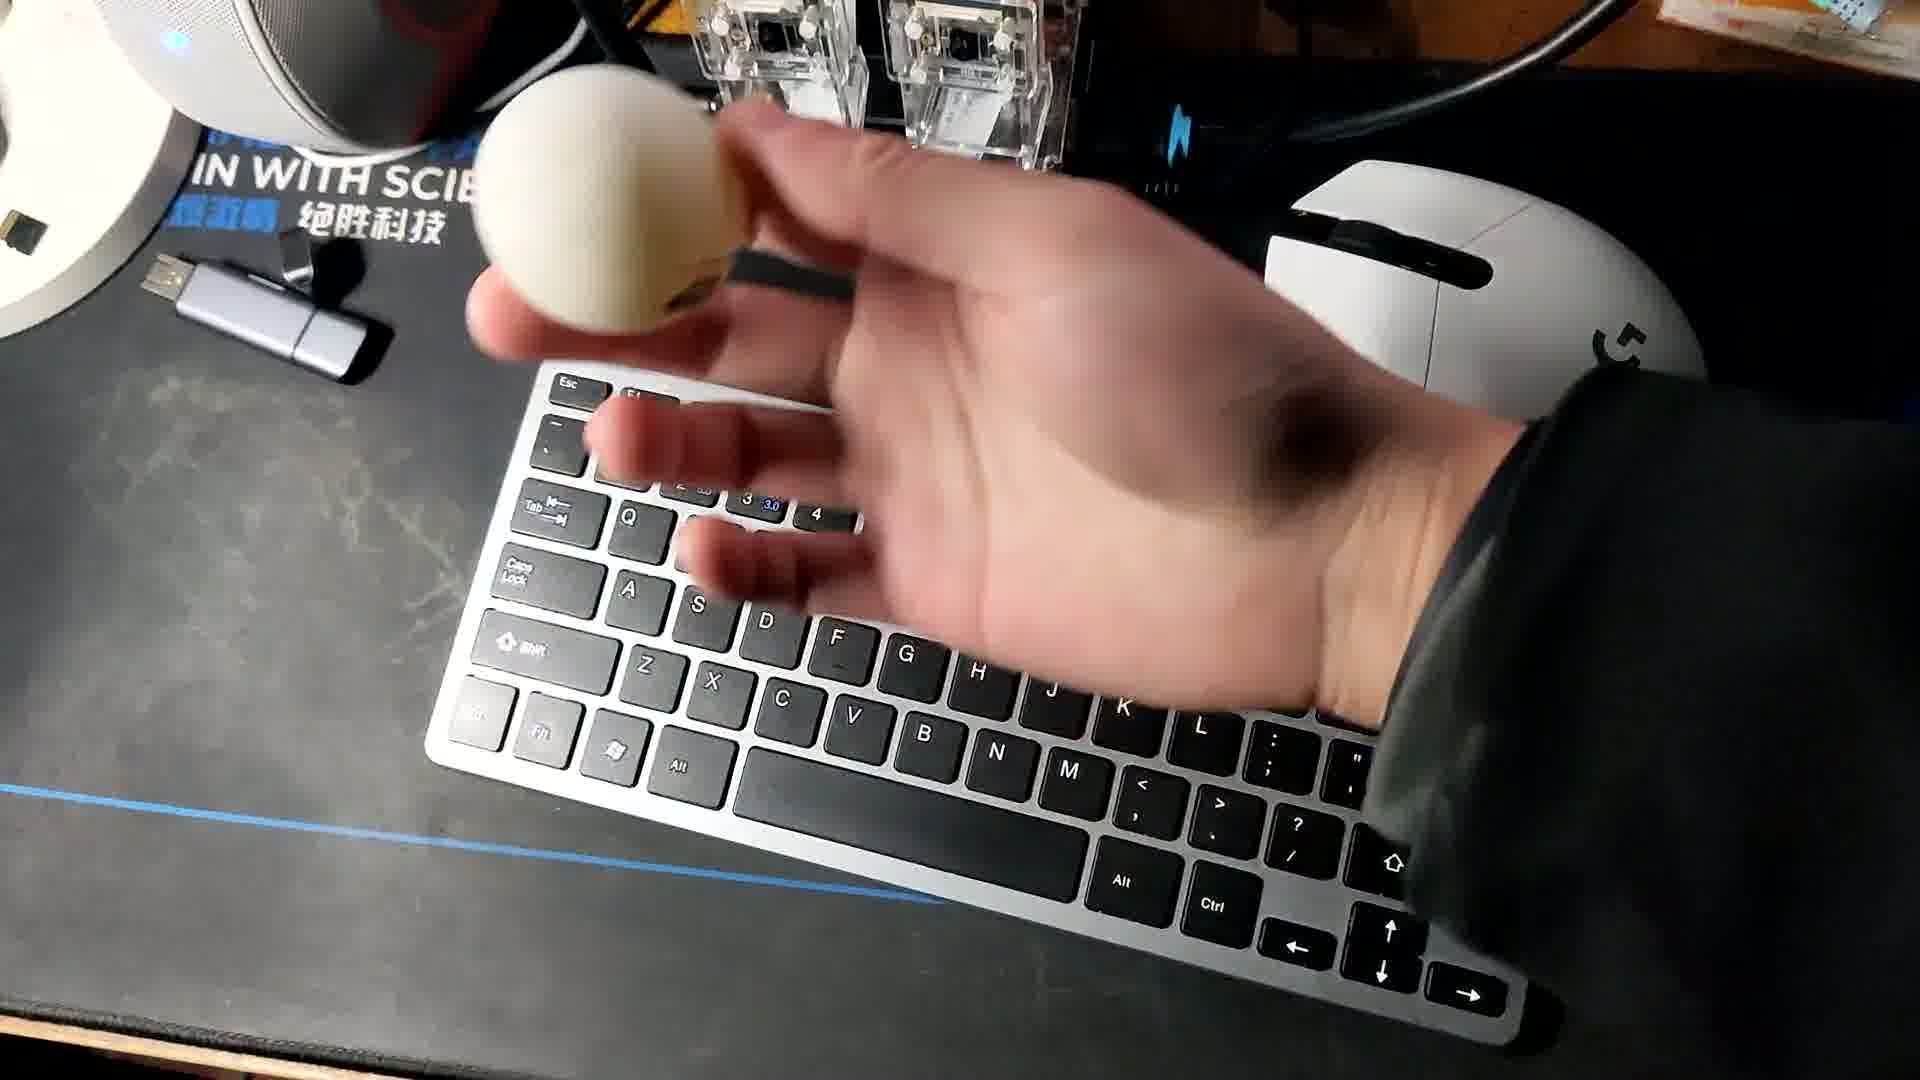Ball: (458, 55, 752, 335)
